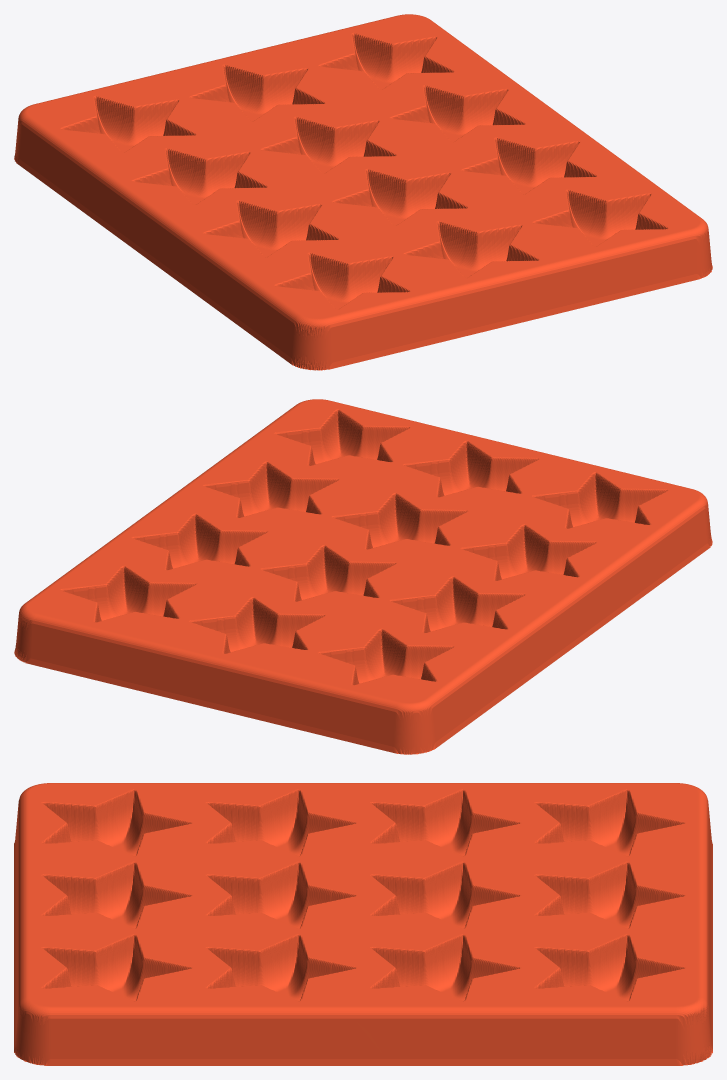
Rendered from mold.glb.
The picture shows the model from 3 angles, top to bottom: view 1: azimuth 30°, elevation 25°; view 2: azimuth 150°, elevation 25°; view 3: azimuth 270°, elevation 25°; orthographic projection. The views are drawn at different scales.
Parts seen in each view (by area): view 1: geometry_0; view 2: geometry_0; view 3: geometry_0.
Part boxes in pixels (left/top/right/bottom): geometry_0: left=14, top=14, right=712, bottom=370; geometry_0: left=14, top=399, right=712, bottom=754; geometry_0: left=14, top=783, right=712, bottom=1065.
Size of the model in its own units: 0.1374 by 0.0145 by 0.1727.
